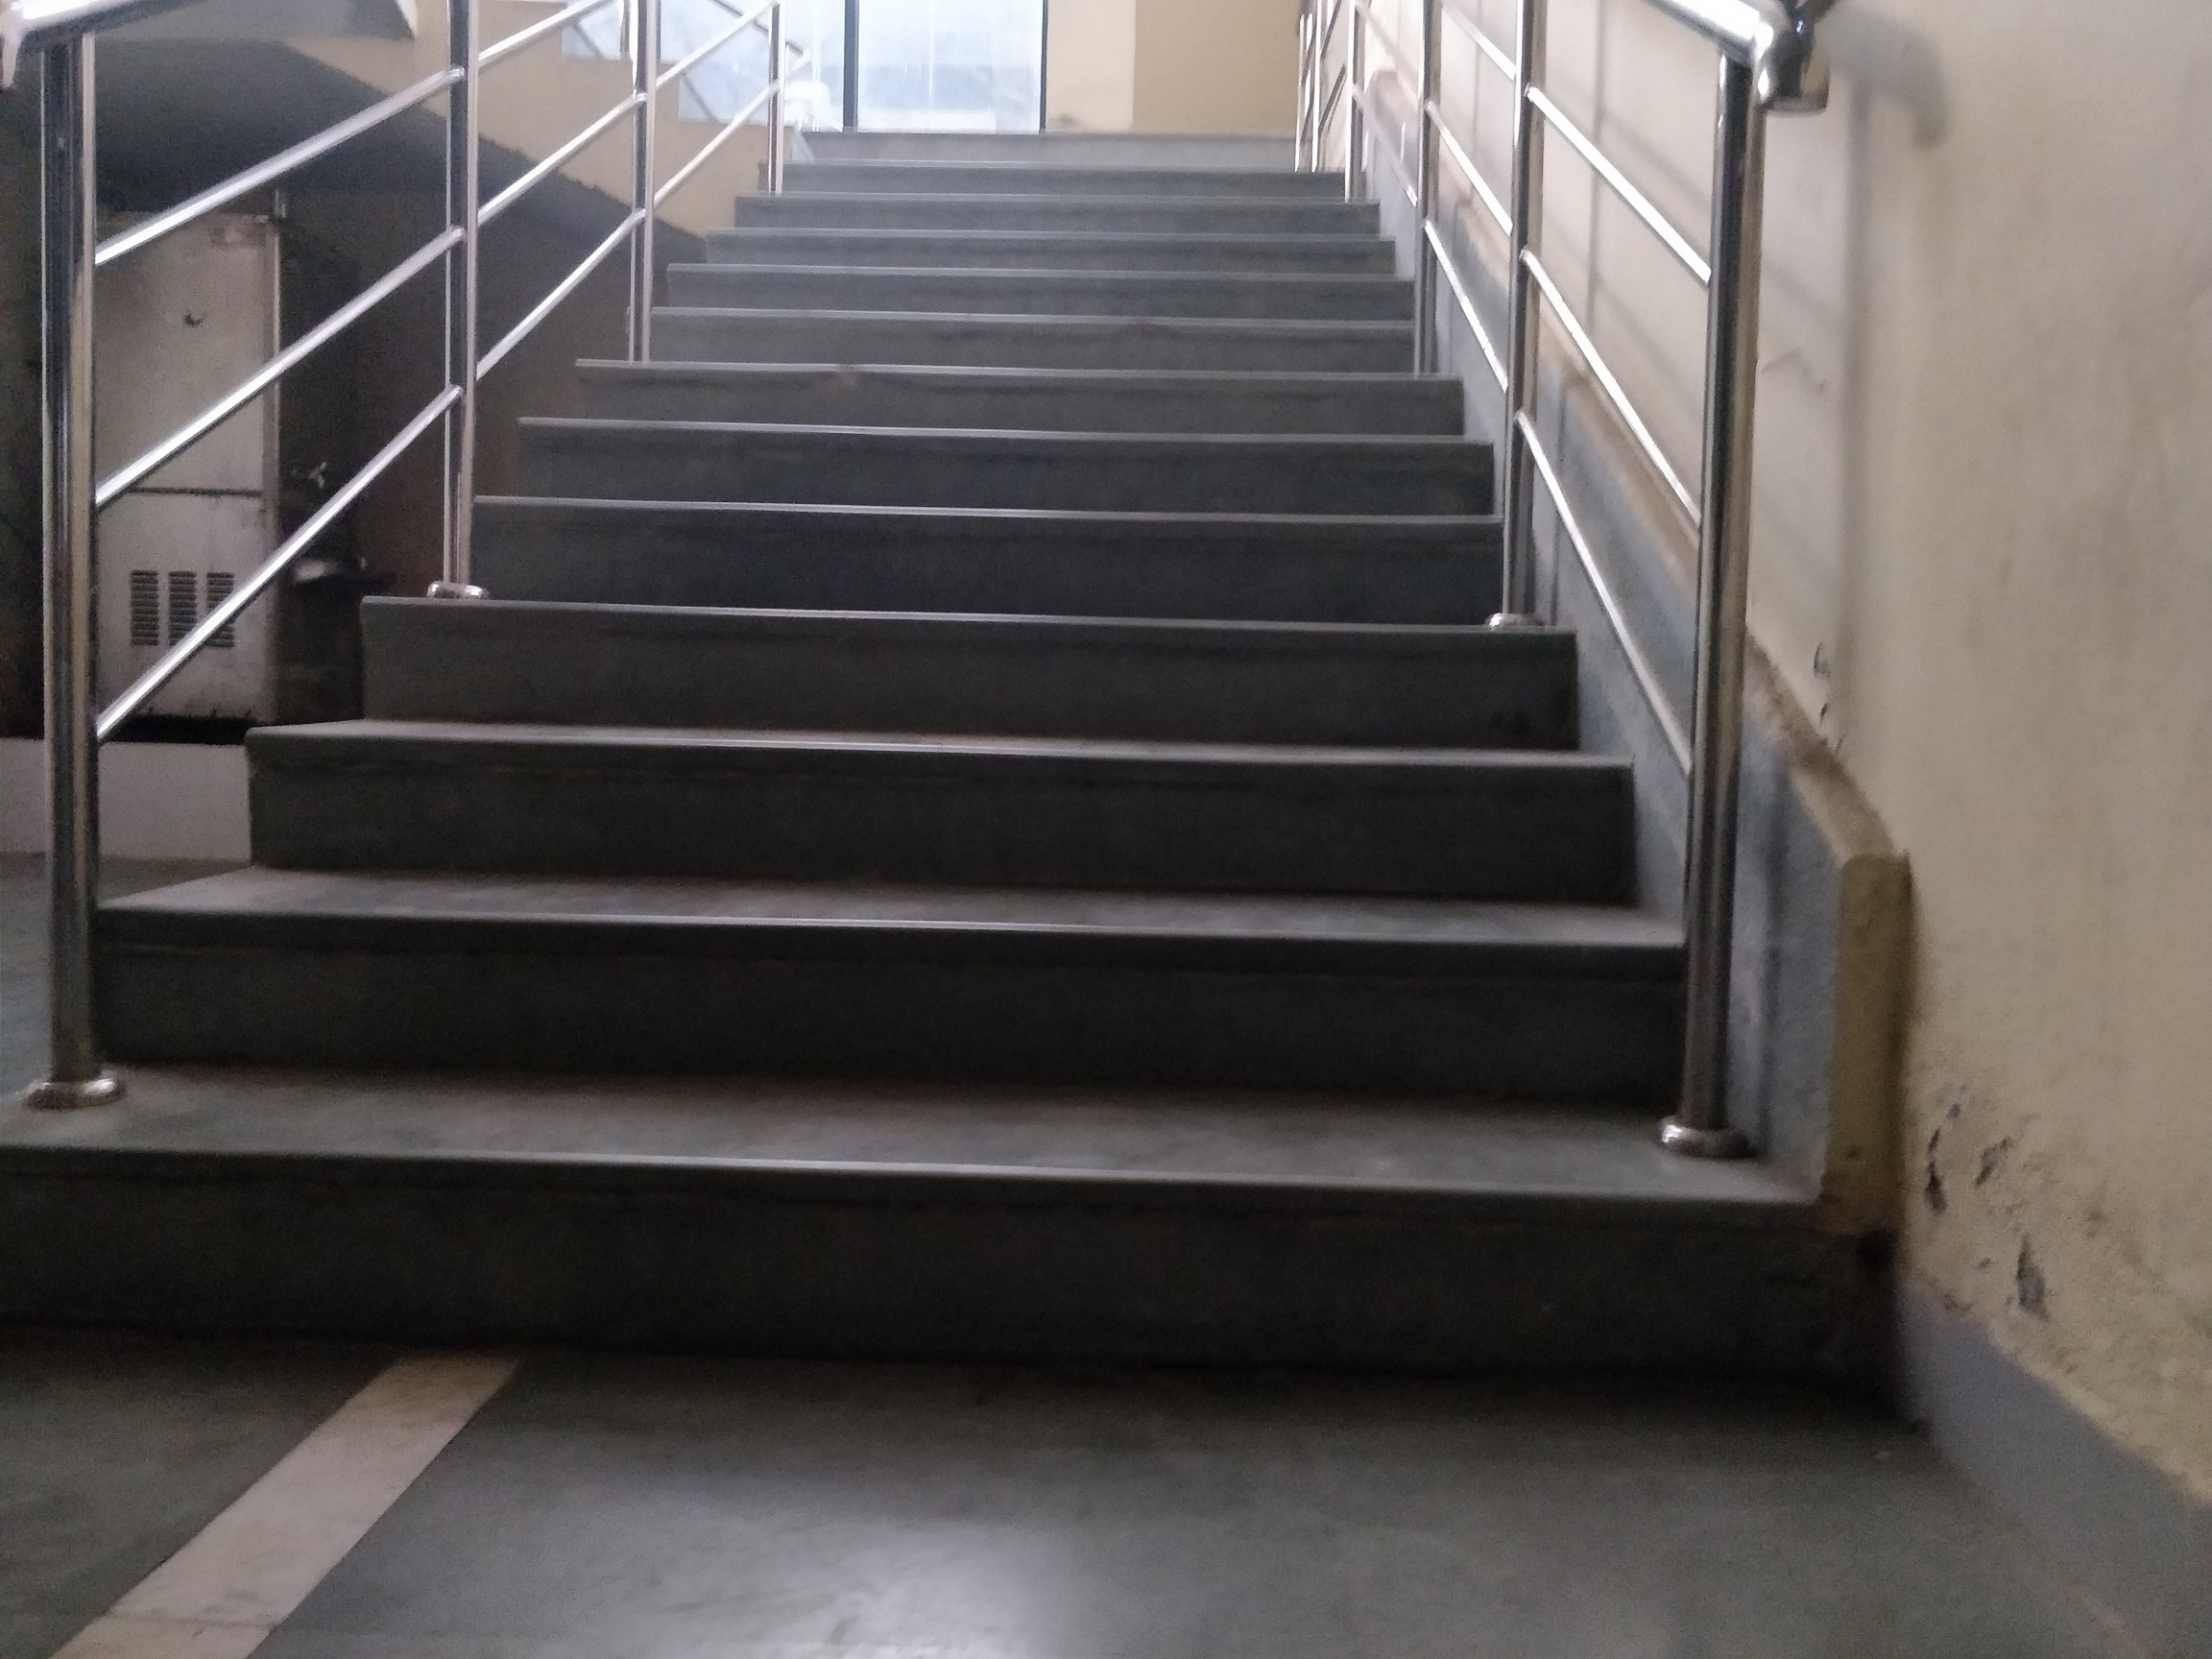stairs_up: (108, 145, 1836, 1340)
